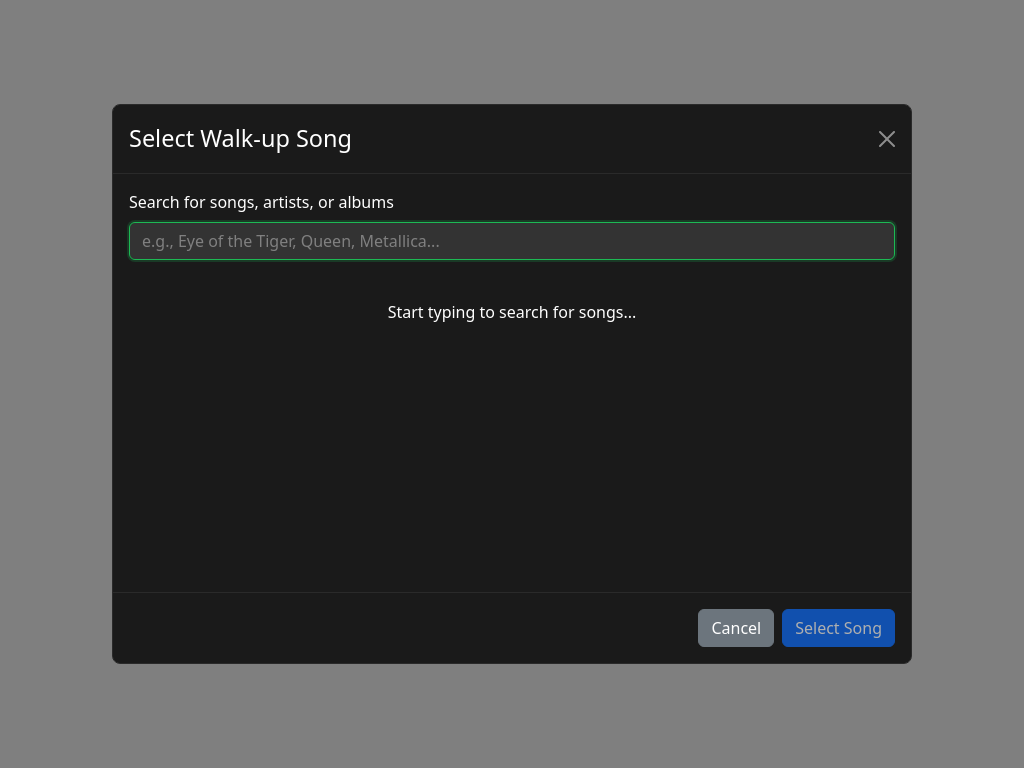
Test: SongSelector › should enable select button when a track is selected
Type "test" into the field labelled "Search for songs, artists, or albums". click: (512, 241)
box: [129,222,895,260]
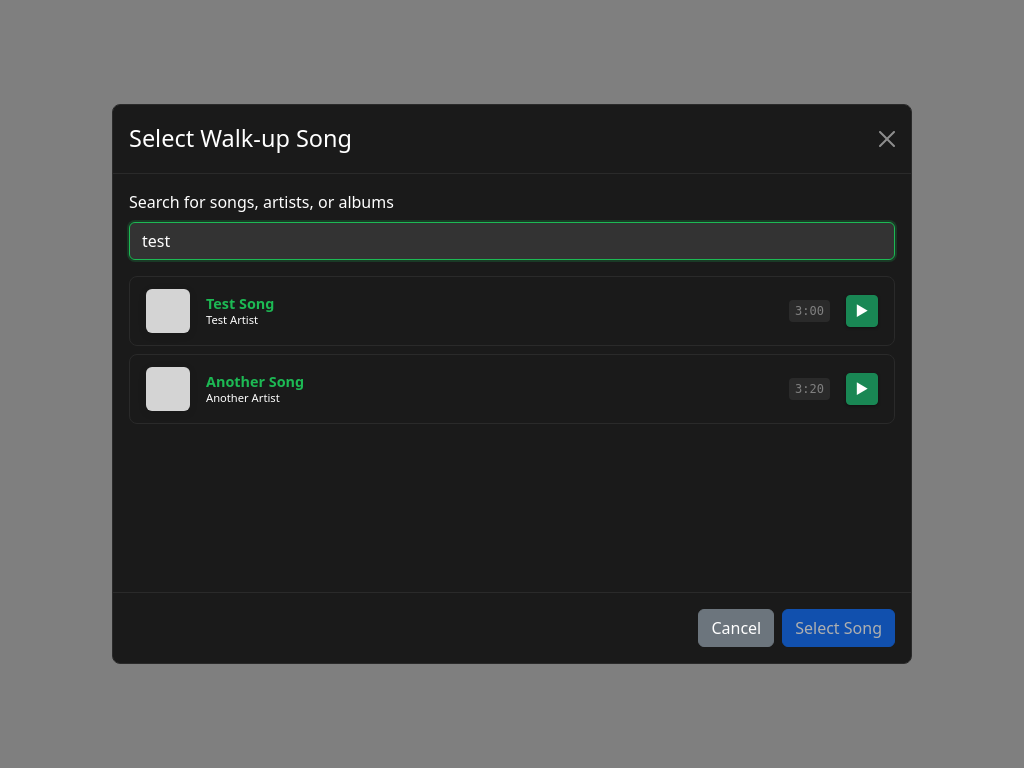
Now the text "Test Song" is shown, box [206,295,274,313]
// Click on a track card
Click the text "Test Song". click: (512, 311)
box: [129,276,895,346]
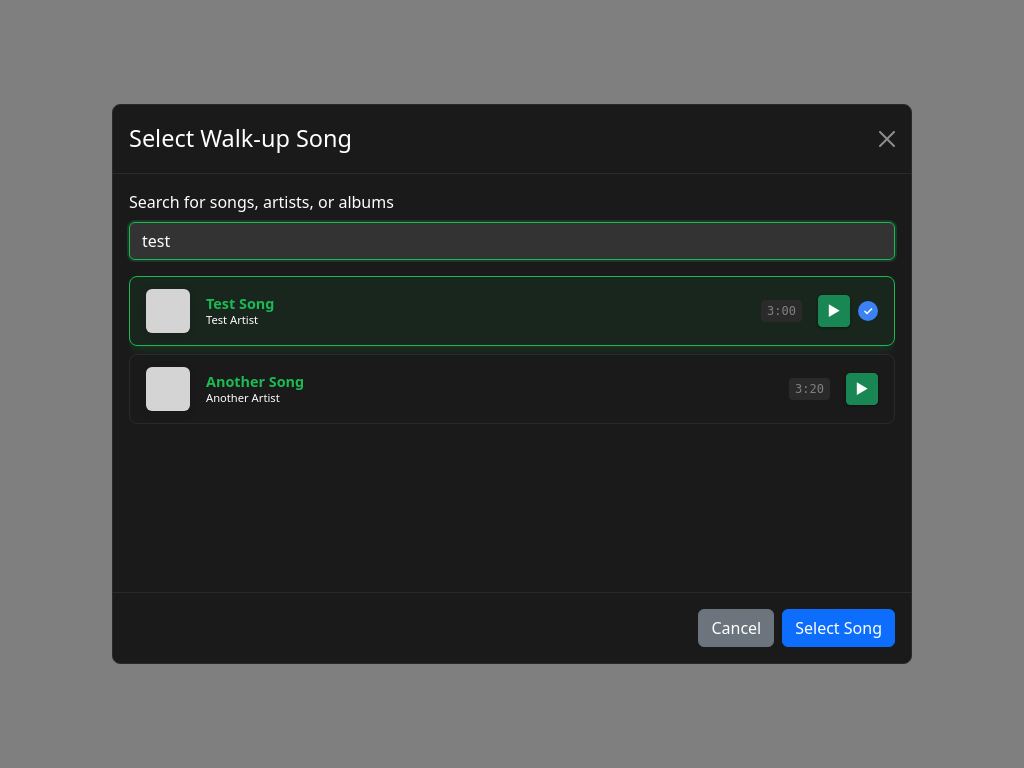
Now the button "Select Song" is enabled, box [782,609,895,647]
